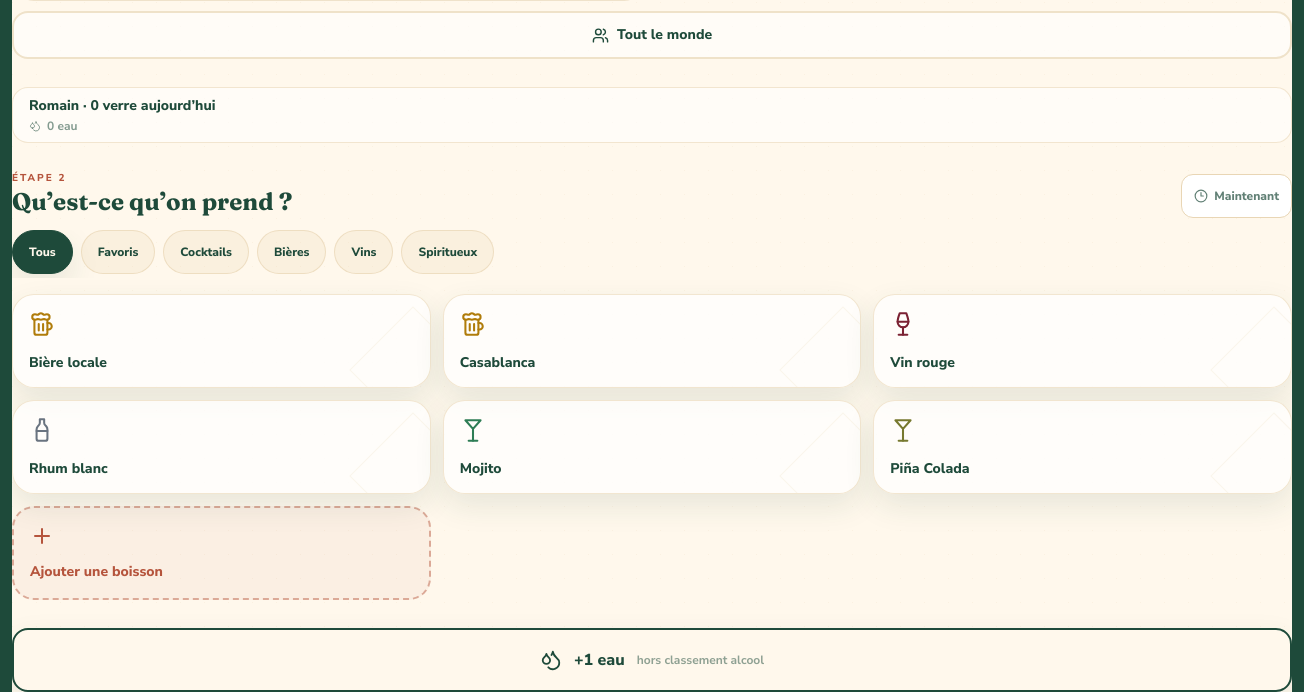
Test: ajout et annulation › ajoute le verre en un tap et propose Annuler dans la snackbar
The width and height of the screenshot is (1304, 692).
(page scrolled)
Click the button with aria-label "Ajouter un Mojito aux participants sélectionnés". click: (481, 468)
box: left=443, top=400, right=861, bottom=494
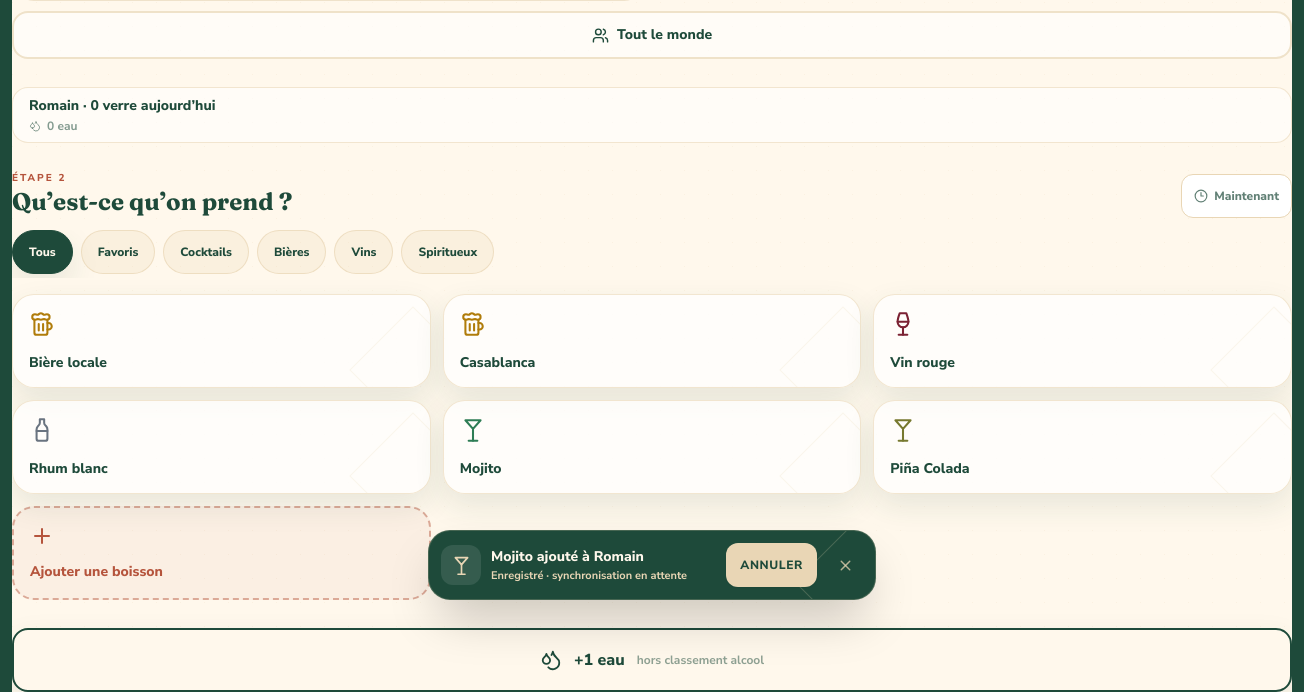
Expected: the text "Mojito ajouté à Romain" is shown, left=491, top=547, right=644, bottom=566
Expected: the button "Annuler" is shown, left=726, top=543, right=817, bottom=587
